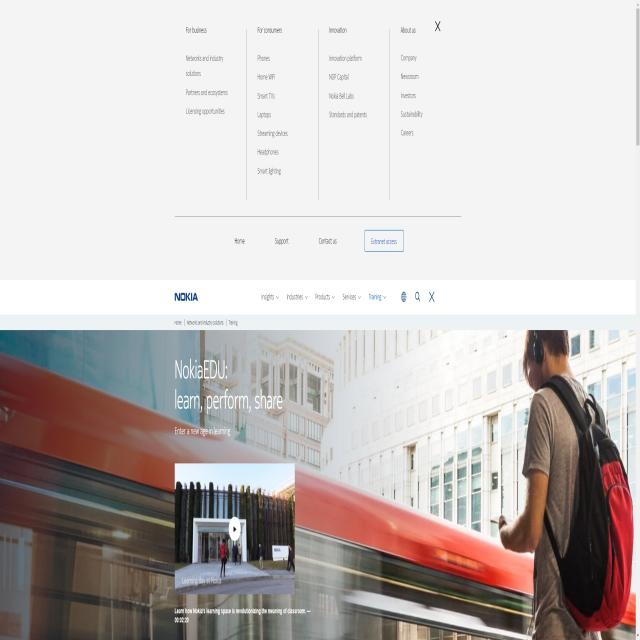menu-bar: (219, 226, 411, 265)
menu-panel: (172, 14, 450, 212)
tab-bar: (250, 285, 390, 310)
